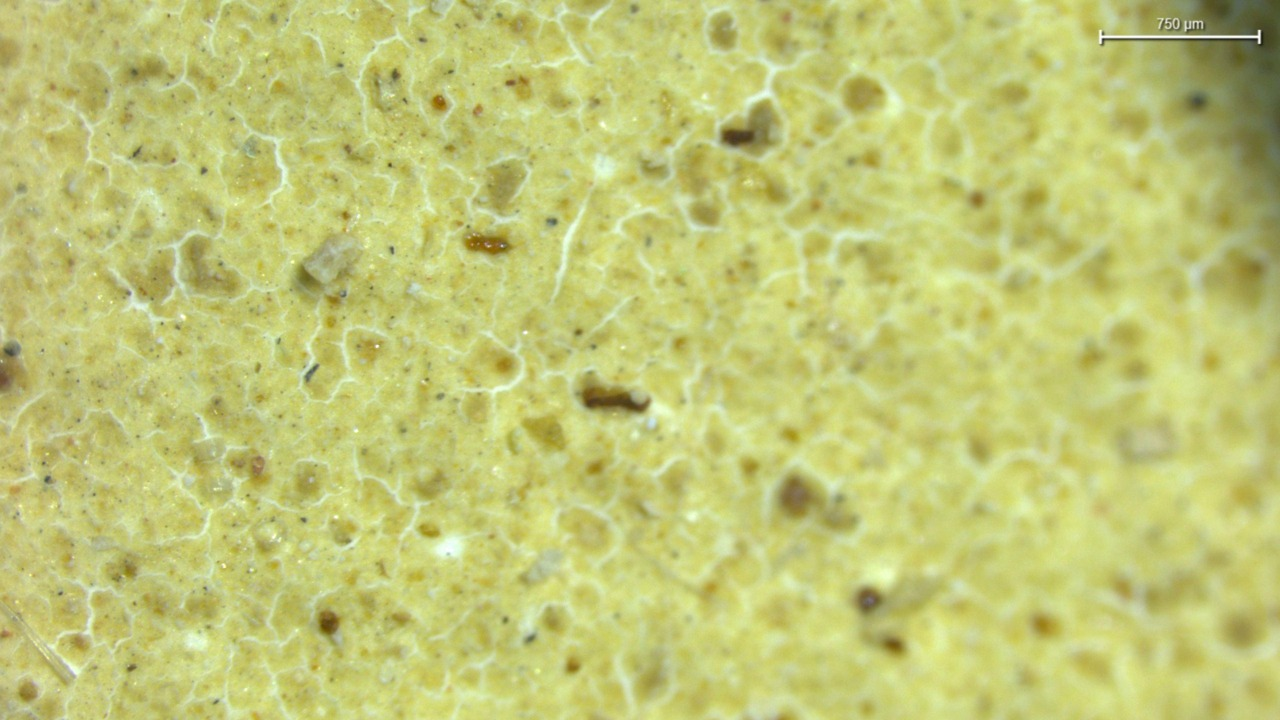microplastic_fragment: (304, 234, 361, 283)
